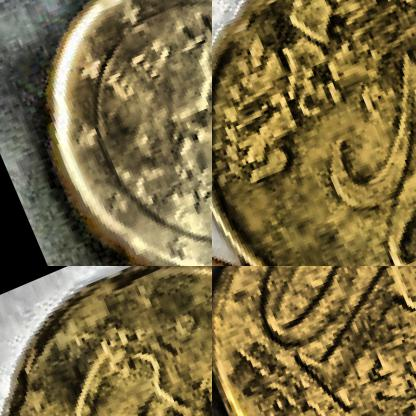coin: (5, 0, 211, 265), (212, 0, 415, 265), (0, 266, 211, 415), (212, 266, 415, 415)
